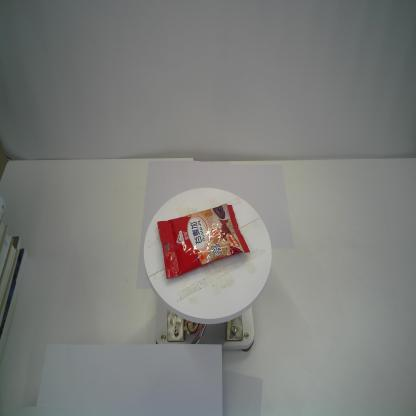Instant Drink: (157, 202, 251, 280)
